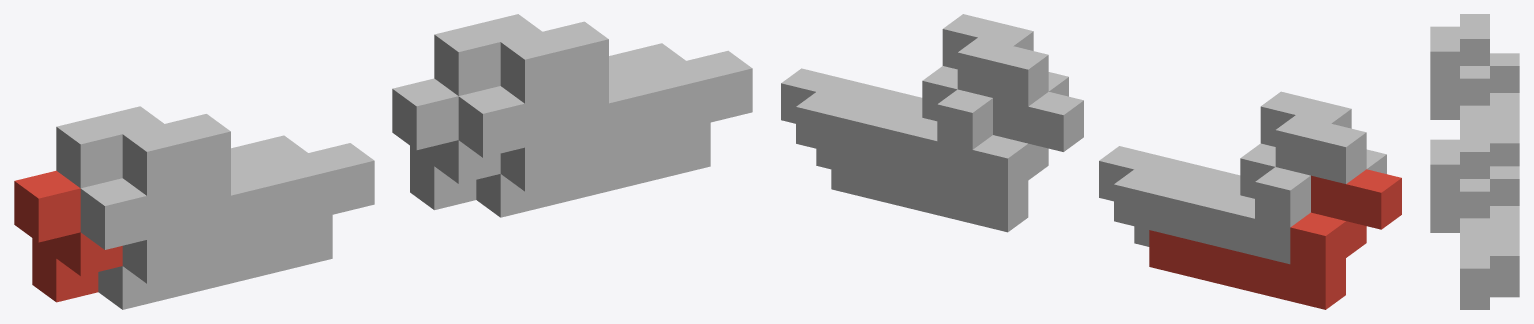
File: tiling.obj
The picture shows the model from 3 angles, left to right: view 1: azimuth 30°, elevation 25°; view 2: azimuth 150°, elevation 25°; view 3: azimuth 270°, elevation 25°; orthographic projection. The views are drawn at different scales.
Visible parts, largest first — view 1: copy_1_domain_4, copy_1_domain_8, copy_1_domain_6, copy_1_domain_2, copy_1_domain_5, copy_1_domain_1, copy_1_domain_3, copy_1_domain_7; view 2: copy_1_domain_3, copy_1_domain_7, copy_1_domain_5, copy_1_domain_1, copy_1_domain_8, copy_1_domain_4, copy_1_domain_2, copy_1_domain_6; view 3: copy_1_domain_8, copy_1_domain_7, copy_1_domain_3, copy_1_domain_4, copy_1_domain_6, copy_1_domain_2, copy_1_domain_5.
Boxes of the visible parts, bbox=[...] form: copy_1_domain_4: bbox=[122, 114, 374, 249]; copy_1_domain_8: bbox=[500, 21, 752, 157]; copy_1_domain_6: bbox=[458, 86, 710, 217]; copy_1_domain_2: bbox=[80, 178, 332, 309]; copy_1_domain_5: bbox=[392, 78, 500, 210]; copy_1_domain_1: bbox=[14, 170, 122, 302]; copy_1_domain_3: bbox=[56, 106, 307, 188]; copy_1_domain_7: bbox=[434, 14, 685, 95]; copy_1_domain_3: bbox=[1114, 115, 1366, 264]; copy_1_domain_7: bbox=[796, 37, 1048, 186]; copy_1_domain_5: bbox=[831, 92, 1083, 232]; copy_1_domain_1: bbox=[1149, 169, 1401, 309]; copy_1_domain_8: bbox=[781, 14, 1033, 123]; copy_1_domain_4: bbox=[1099, 91, 1351, 201]; copy_1_domain_2: bbox=[1134, 149, 1386, 246]; copy_1_domain_6: bbox=[816, 72, 1068, 169]; copy_1_domain_8: bbox=[1430, 139, 1489, 295]; copy_1_domain_7: bbox=[1460, 127, 1519, 282]; copy_1_domain_3: bbox=[1460, 14, 1519, 166]; copy_1_domain_4: bbox=[1430, 26, 1489, 126]; copy_1_domain_6: bbox=[1430, 218, 1489, 309]; copy_1_domain_2: bbox=[1430, 105, 1459, 119]; copy_1_domain_5: bbox=[1490, 283, 1519, 297].
Bounding box in the file's own units: 17 × 4 × 3.
